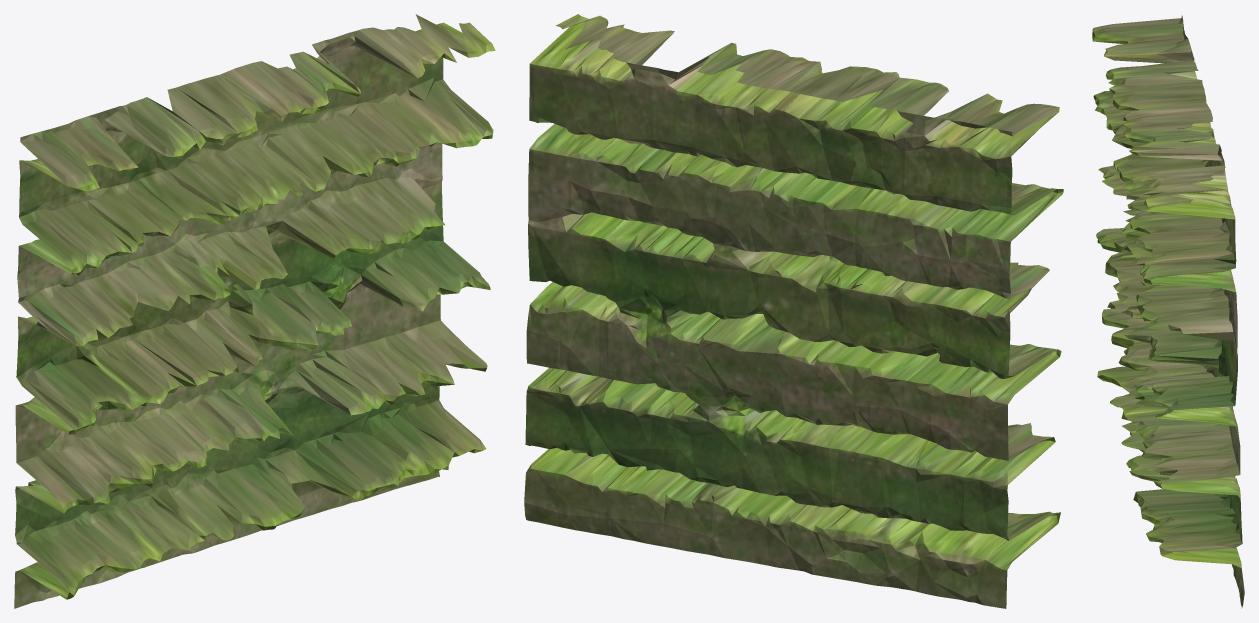
File: map_190_50.obj
3 views of the same model, side by side, from view 1: azimuth 30°, elevation 25°; view 2: azimuth 150°, elevation 25°; view 3: azimuth 270°, elevation 25° (orthographic). The views are drawn at different scales.
Visible parts, largest first — view 1: grp1; view 2: grp1; view 3: grp1.
Boxes of the visible parts, box(x1,y1,x2,y2) form: grp1: box(14, 14, 495, 608); grp1: box(524, 14, 1063, 608); grp1: box(1092, 15, 1244, 608).
Bounding box in the file's own units: 10 × 10 × 3.41.
1 material, 1 textured.
